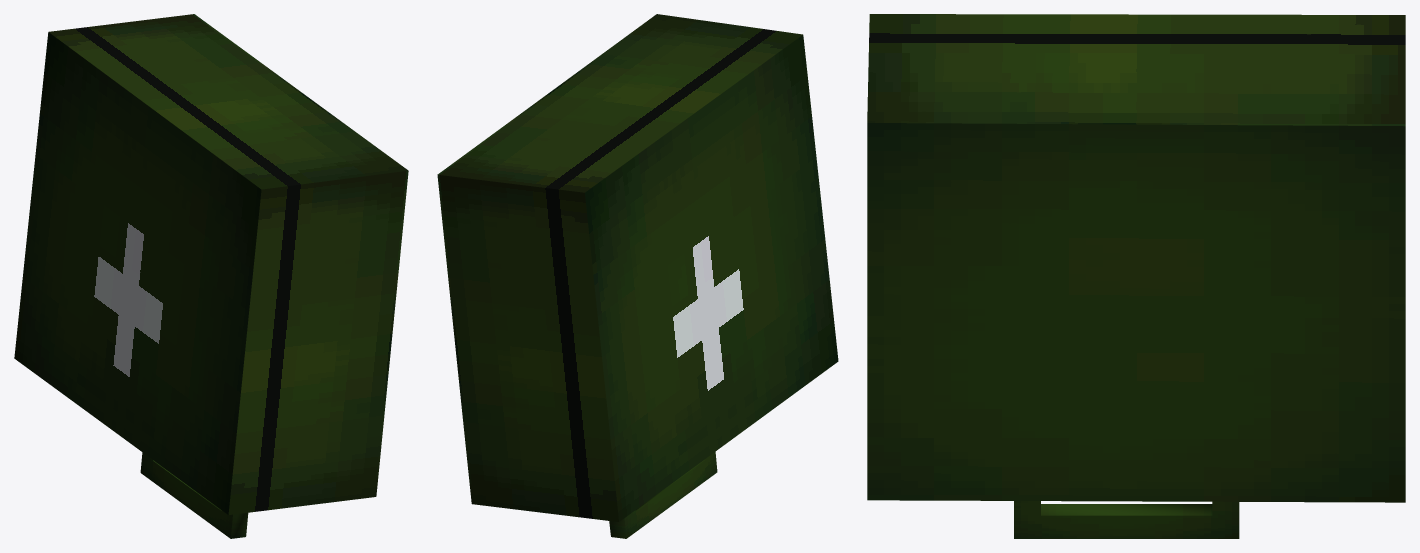
Rendered from MEDIKIT.glb.
3 views of the same model, side by side, from view 1: azimuth 30°, elevation 25°; view 2: azimuth 150°, elevation 25°; view 3: azimuth 270°, elevation 25° (orthographic). The views are drawn at different scales.
Visible parts, largest first — view 1: MEDIKIT; view 2: MEDIKIT; view 3: MEDIKIT.
Part boxes in pixels (x1=…): MEDIKIT: x1=14, y1=14, x2=408, y2=538; MEDIKIT: x1=437, y1=14, x2=838, y2=538; MEDIKIT: x1=867, y1=14, x2=1405, y2=538.
Size of the model in its own units: 0.107 by 0.225 by 0.22.
Materials: 1 (1 with a texture image).
